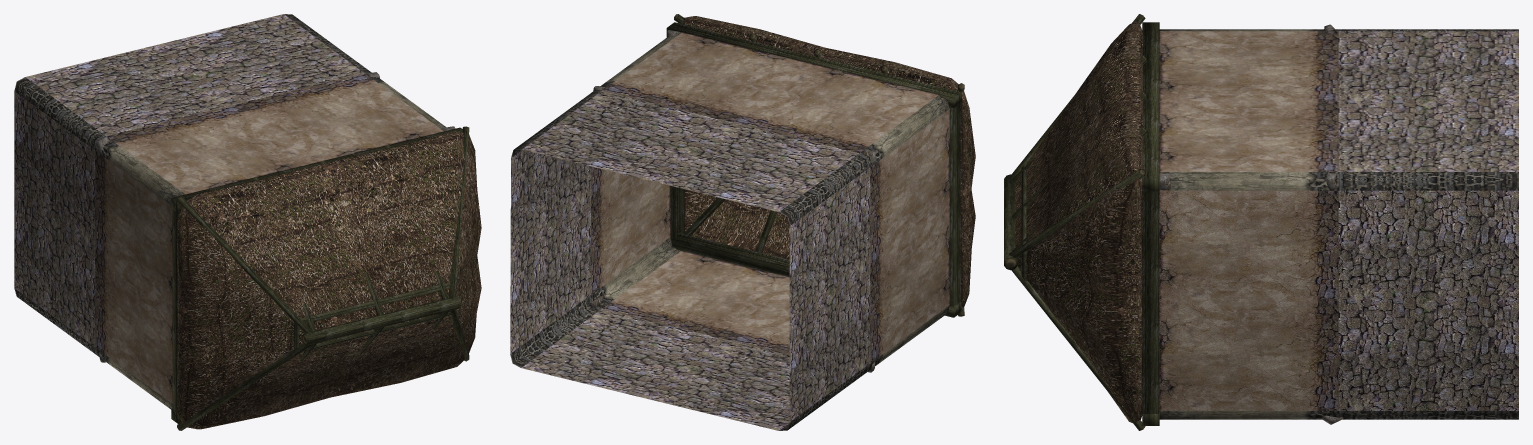
The model's file is ex_nord_house_03.obj.
3 views of the same model, side by side, from view 1: azimuth 30°, elevation 25°; view 2: azimuth 150°, elevation 25°; view 3: azimuth 270°, elevation 25° (orthographic). The views are drawn at different scales.
Visible parts, largest first — view 1: Tri Ex_nord_house_03 6, Tri Ex_nord_house_03 4, Tri Ex_nord_house_03 3, Tri Ex_nord_house_03 0, Tri Ex_nord_house_03 1, Tri Ex_nord_house_03 9, Tri Ex_nord_house_03 2, Tri Ex_nord_house_03 8; view 2: Tri Ex_nord_house_03 4, Tri Ex_nord_house_03 3, Tri Ex_nord_house_03 6, Tri Ex_nord_house_03 0, Tri Ex_nord_house_03 1, Tri Ex_nord_house_03 9, Tri Ex_nord_house_03 2, Tri Ex_nord_house_03 8; view 3: Tri Ex_nord_house_03 4, Tri Ex_nord_house_03 3, Tri Ex_nord_house_03 6, Tri Ex_nord_house_03 0, Tri Ex_nord_house_03 2, Tri Ex_nord_house_03 8, Tri Ex_nord_house_03 1, Tri Ex_nord_house_03 9, Tri Ex_nord_house_03 7.
Boxes of the visible parts, box(x1,y1,x2,y2) form: Tri Ex_nord_house_03 6: box(177, 131, 481, 429); Tri Ex_nord_house_03 4: box(14, 14, 364, 346); Tri Ex_nord_house_03 3: box(95, 73, 443, 403); Tri Ex_nord_house_03 0: box(171, 126, 469, 430); Tri Ex_nord_house_03 1: box(14, 14, 371, 355); Tri Ex_nord_house_03 9: box(95, 73, 445, 409); Tri Ex_nord_house_03 2: box(14, 82, 97, 149); Tri Ex_nord_house_03 8: box(95, 141, 174, 205); Tri Ex_nord_house_03 4: box(510, 90, 870, 430); Tri Ex_nord_house_03 3: box(590, 32, 949, 362); Tri Ex_nord_house_03 6: box(677, 16, 975, 306); Tri Ex_nord_house_03 0: box(666, 14, 964, 317); Tri Ex_nord_house_03 1: box(513, 90, 869, 430); Tri Ex_nord_house_03 9: box(594, 32, 949, 371); Tri Ex_nord_house_03 2: box(510, 149, 869, 430); Tri Ex_nord_house_03 8: box(590, 100, 949, 301); Tri Ex_nord_house_03 4: box(1338, 31, 1518, 410); Tri Ex_nord_house_03 3: box(1159, 31, 1338, 410); Tri Ex_nord_house_03 6: box(1015, 21, 1142, 422); Tri Ex_nord_house_03 0: box(1004, 14, 1159, 430); Tri Ex_nord_house_03 2: box(1338, 179, 1518, 419); Tri Ex_nord_house_03 8: box(1159, 179, 1338, 419); Tri Ex_nord_house_03 1: box(1338, 29, 1518, 179); Tri Ex_nord_house_03 9: box(1159, 29, 1338, 179); Tri Ex_nord_house_03 7: box(1159, 24, 1343, 424).
Bounding box in the file's own units: 545 × 414 × 731.
Materials: 10 (10 with a texture image).
